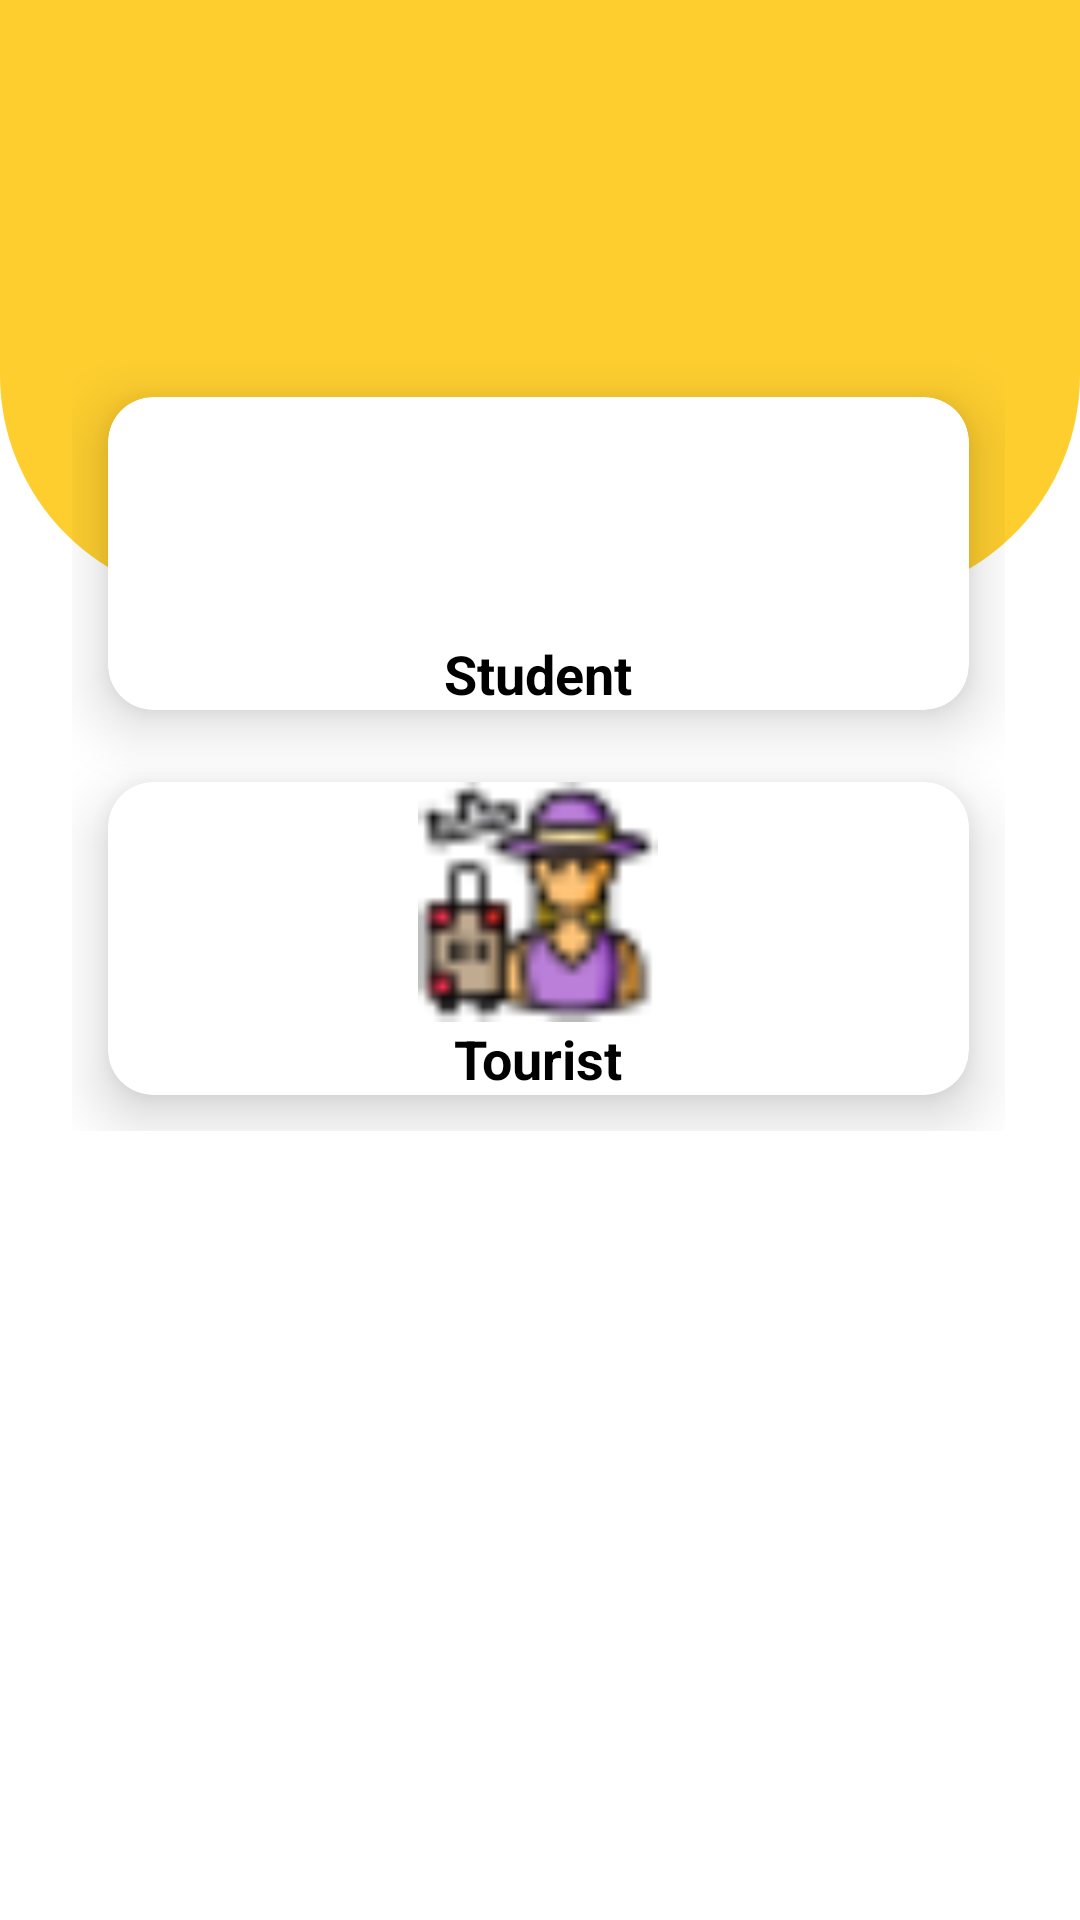

Named icons in this screenshot (1080w x 1920h) and their centers, (x,y):
travel: (538,902)
